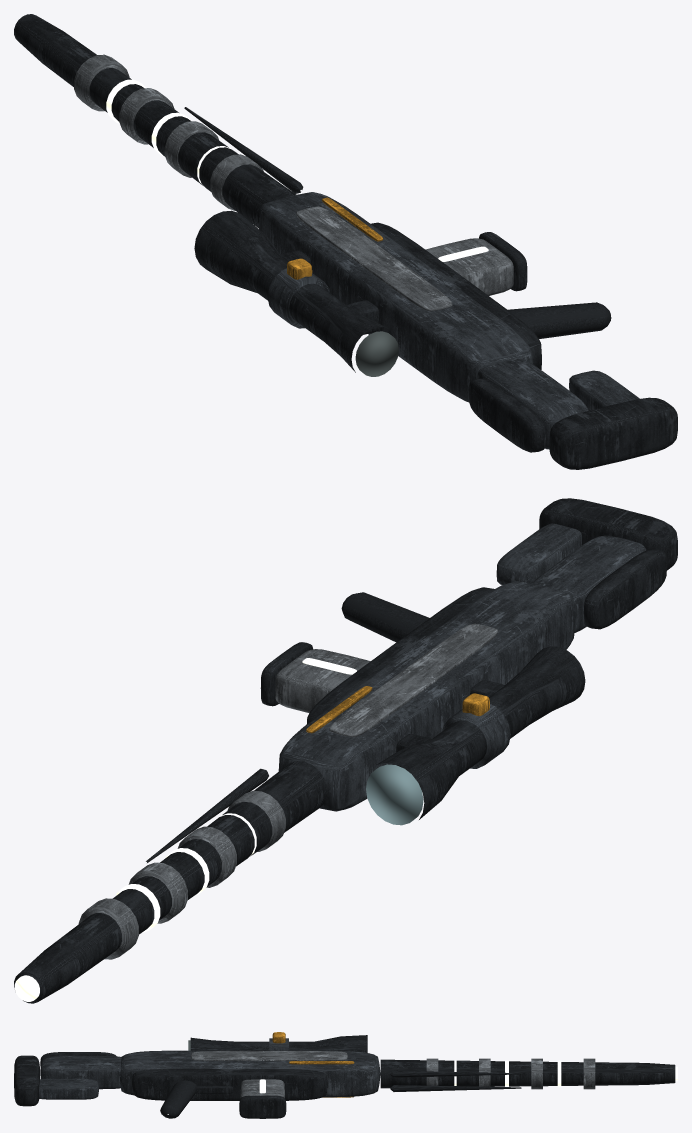
File: lr4_world.glb
The picture shows the model from 3 angles, top to bottom: view 1: azimuth 30°, elevation 25°; view 2: azimuth 150°, elevation 25°; view 3: azimuth 270°, elevation 25°; orthographic projection. The views are drawn at different scales.
Parts seen in each view (by area): view 1: lr4_world; view 2: lr4_world; view 3: lr4_world.
Part boxes in pixels (bbox=[...]): lr4_world: bbox=[14, 14, 677, 469]; lr4_world: bbox=[14, 498, 677, 1003]; lr4_world: bbox=[14, 1032, 677, 1118].
Size of the model in its own units: 0.2484 by 0.0635 by 1.01.
Materials: 6 (3 with a texture image).
